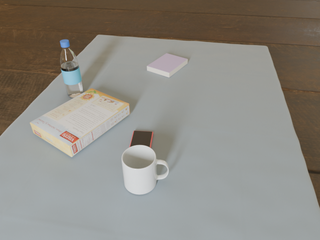book: (147, 53, 188, 77)
bottle: (60, 40, 84, 98)
box: (30, 89, 130, 157)
cup: (122, 145, 169, 194)
phone: (129, 131, 153, 148)
